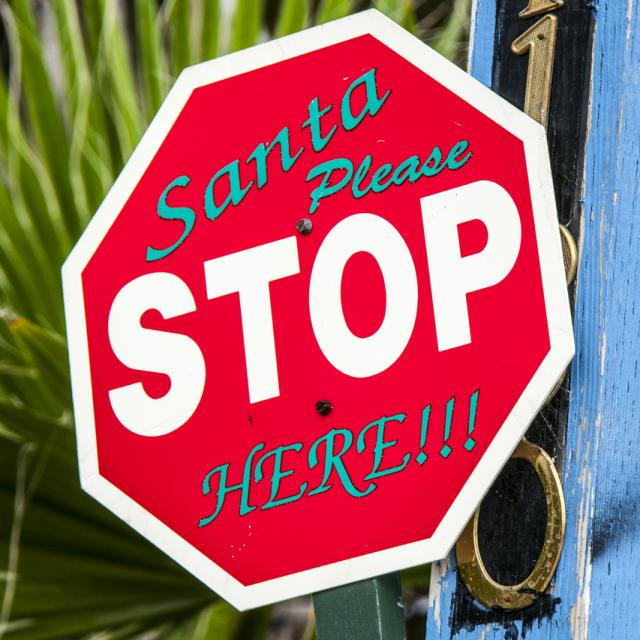Stop-sign: (60, 2, 579, 615)
